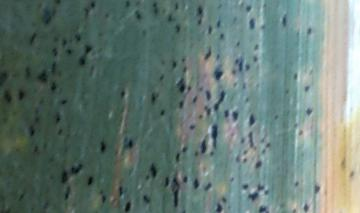tarspot: (210, 119, 221, 153), (171, 175, 182, 209), (212, 88, 227, 112), (199, 134, 211, 155), (148, 161, 161, 180), (175, 75, 187, 95), (68, 163, 89, 174), (301, 105, 318, 118), (212, 67, 225, 83), (47, 81, 59, 98), (185, 120, 198, 135), (202, 45, 214, 61), (247, 14, 257, 33), (16, 86, 27, 103), (57, 167, 68, 184), (98, 138, 108, 156), (125, 136, 137, 151), (248, 109, 257, 129), (115, 181, 125, 198), (212, 200, 225, 213), (175, 97, 187, 111), (77, 54, 89, 68), (256, 202, 271, 213), (149, 91, 160, 106), (191, 177, 201, 193), (202, 180, 214, 193), (247, 190, 260, 202), (193, 5, 205, 18), (310, 183, 323, 195), (37, 69, 48, 83), (123, 198, 133, 213), (84, 176, 96, 188), (243, 59, 252, 75), (179, 173, 190, 186), (82, 41, 93, 54), (173, 150, 183, 164), (254, 158, 263, 173), (205, 84, 212, 103), (133, 9, 143, 22), (118, 87, 127, 101), (141, 194, 152, 205), (190, 94, 201, 105), (161, 173, 169, 188), (223, 106, 231, 121), (29, 126, 37, 141), (4, 90, 12, 105), (170, 59, 179, 72), (231, 108, 240, 121), (239, 181, 250, 191), (301, 202, 311, 213), (65, 47, 75, 58), (89, 1, 100, 11), (243, 4, 253, 15), (257, 181, 266, 193), (165, 11, 174, 23), (58, 98, 69, 107), (158, 106, 165, 120), (186, 82, 194, 94), (54, 114, 62, 125), (306, 26, 314, 37), (217, 32, 226, 41), (207, 26, 214, 37)
